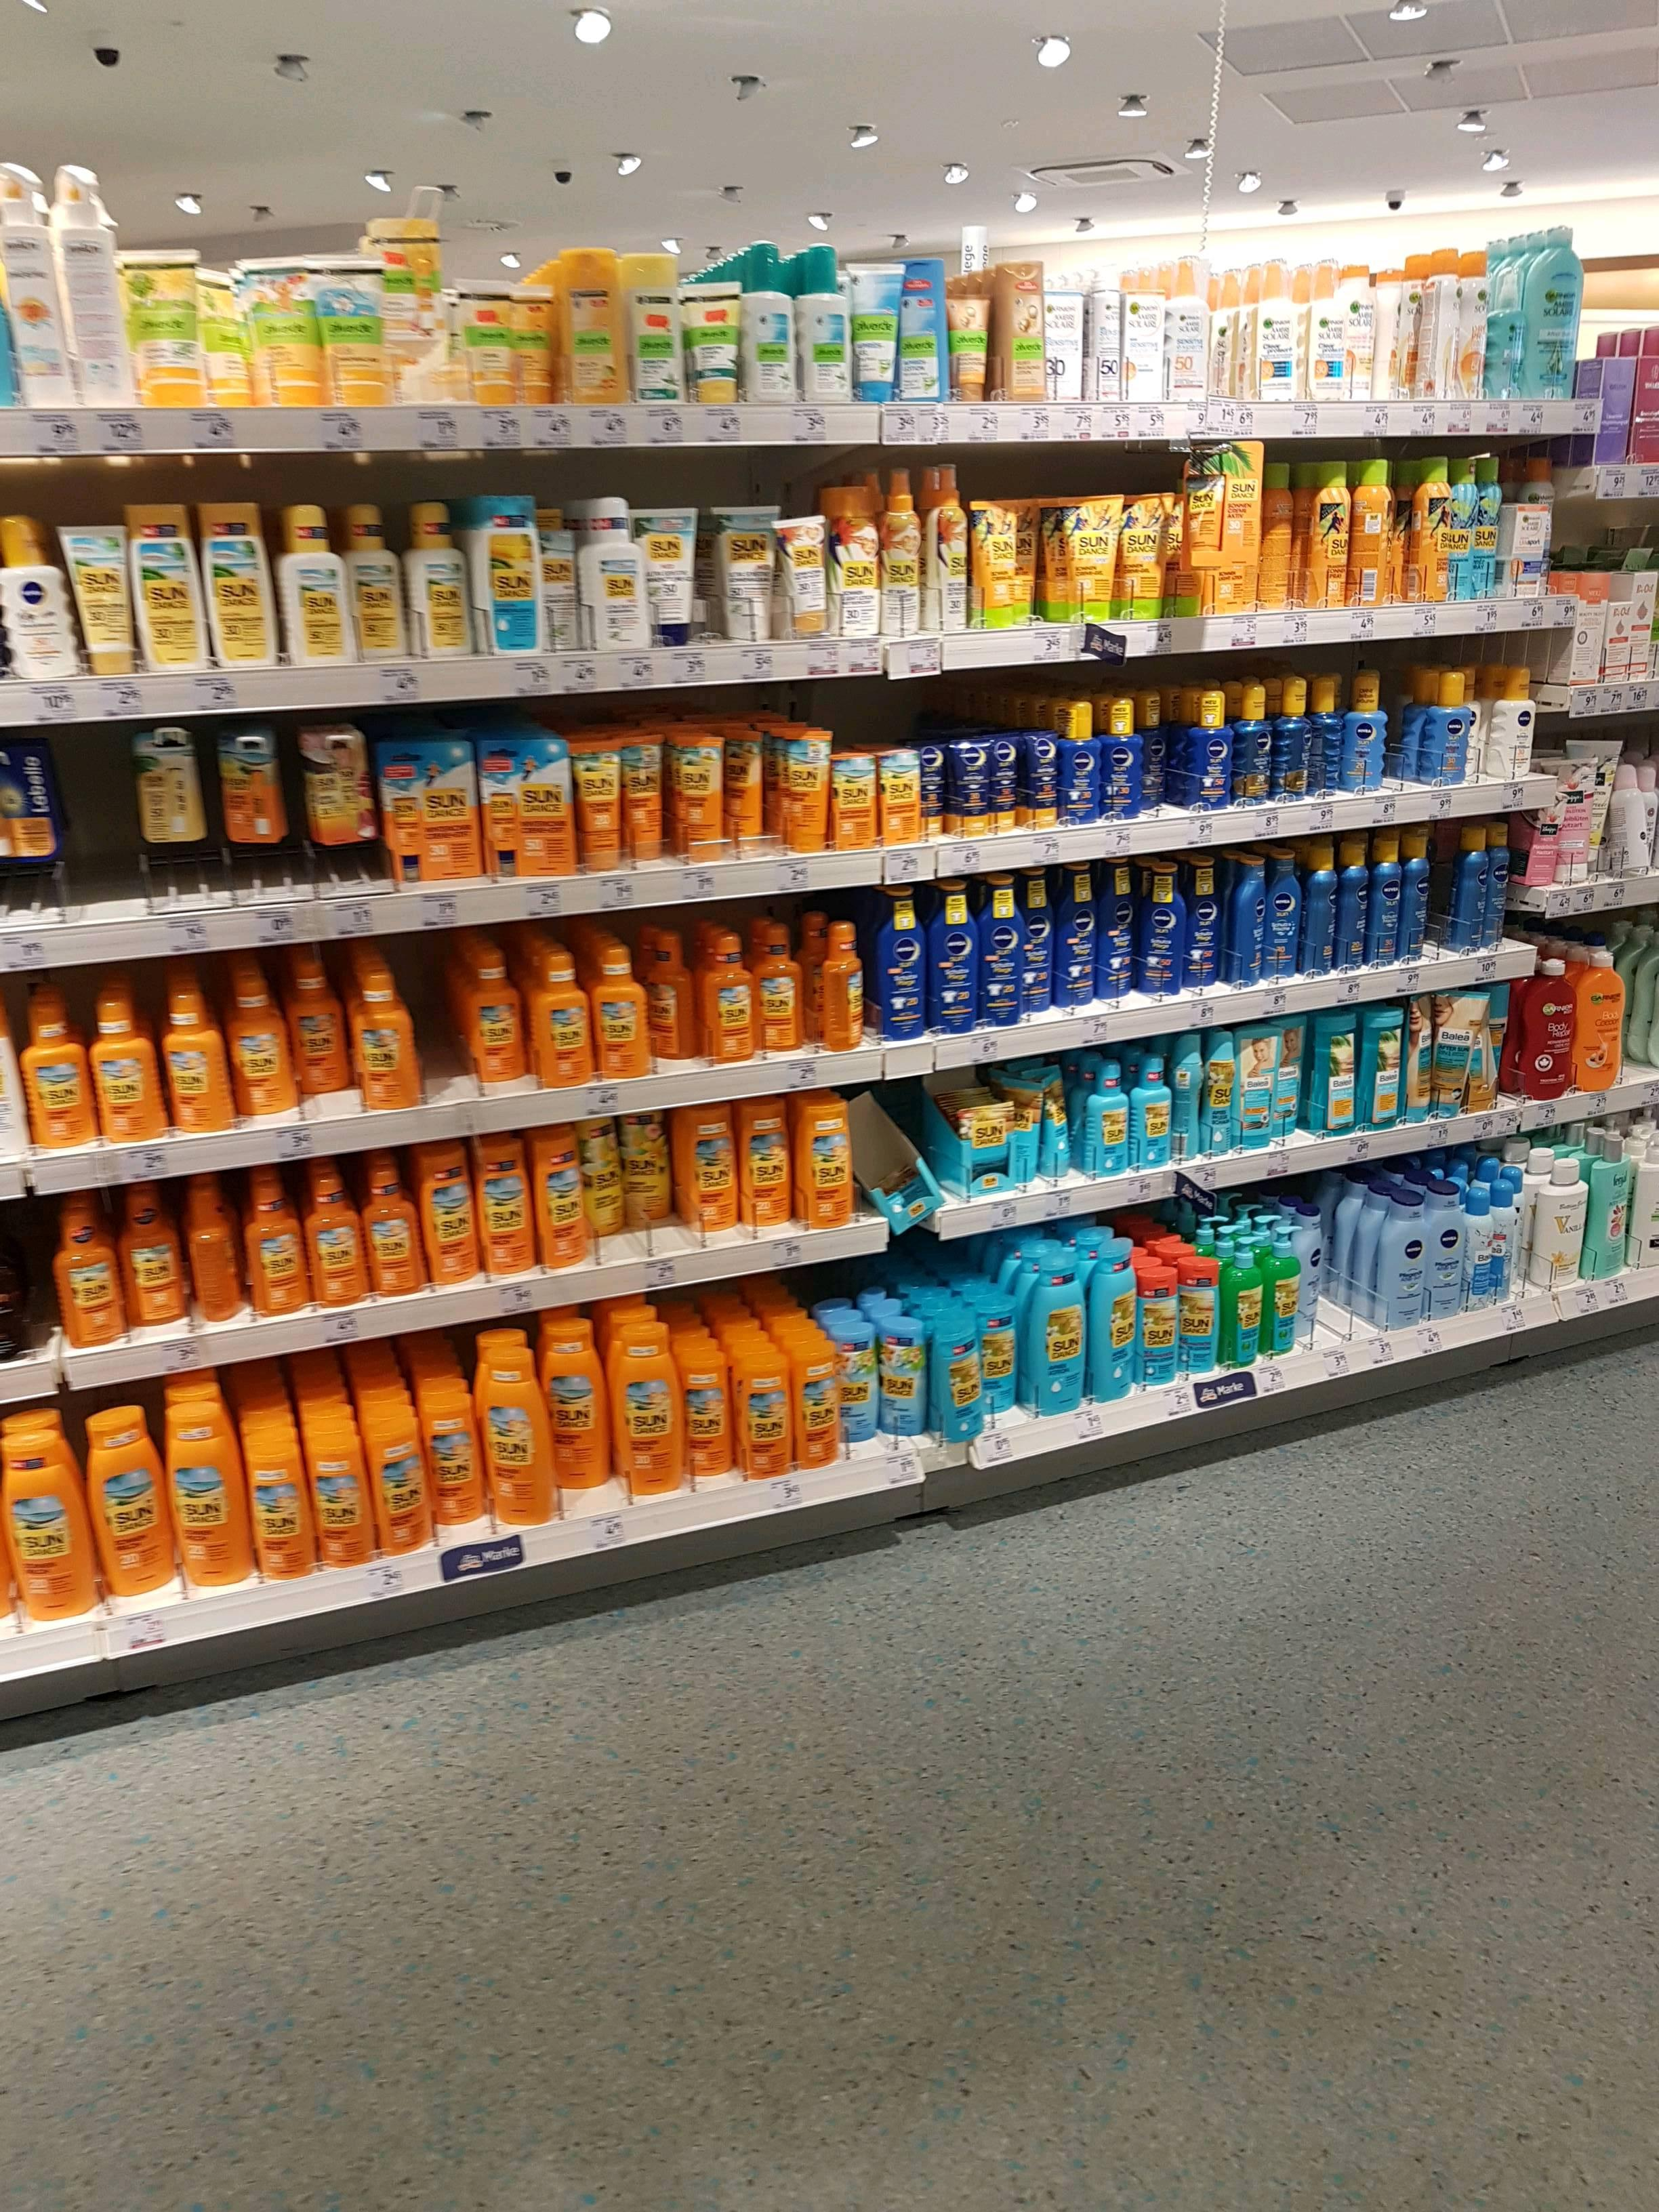empty: (56, 738, 138, 902), (0, 1217, 54, 1369)
